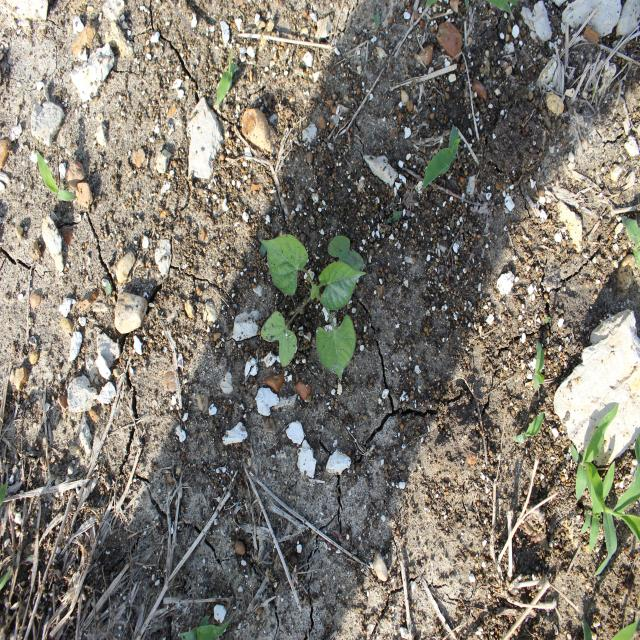MorningGlory: (258, 229, 368, 386)
